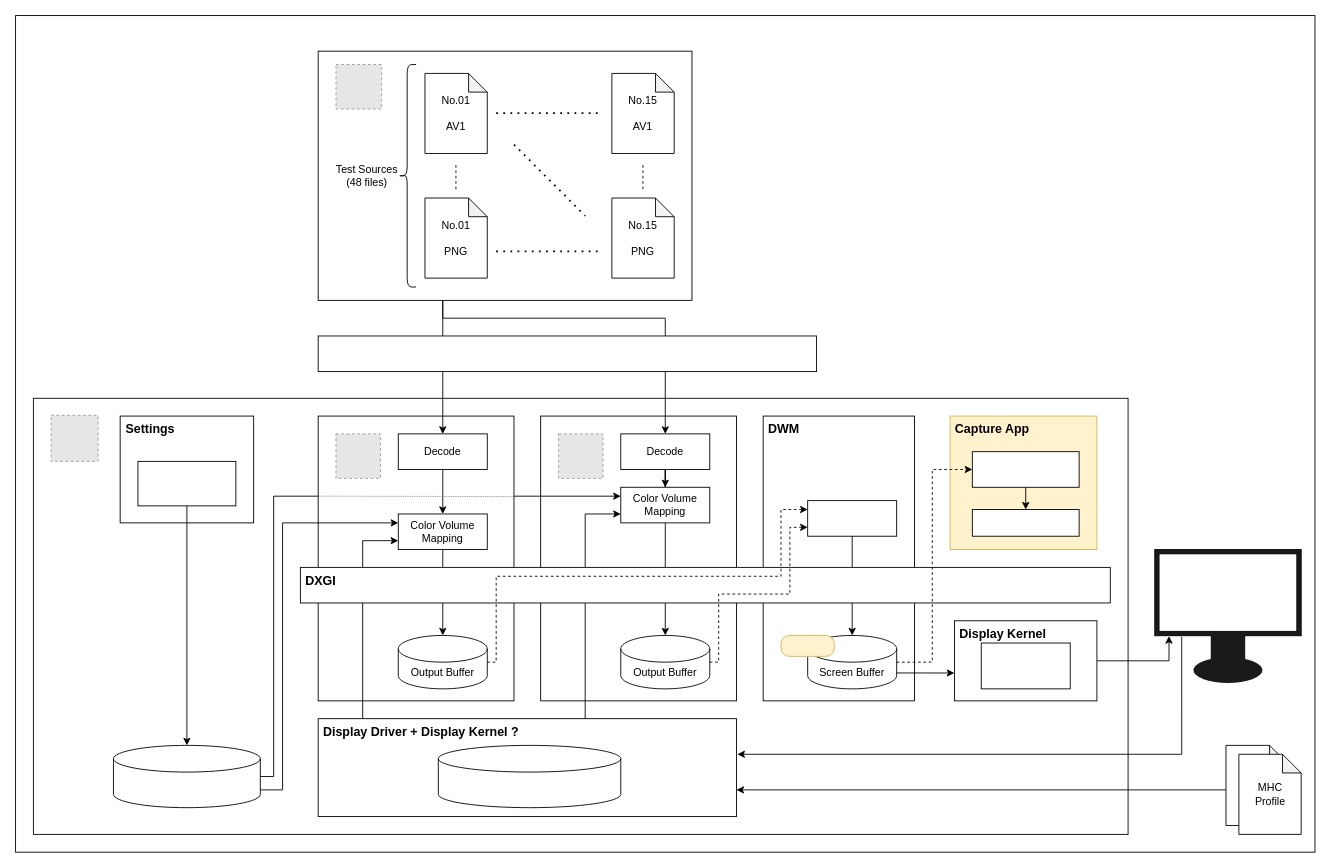
Image size: 1331x868. Some labels were removed from this diagram. Grey dashed boxes stand in for pictures. Each missing label, with the centre of its shape:
"Composition" goes at (852,518).
"Display's Color Volume Capabilities" goes at (529,776).
"Save as JPEG XR" goes at (1025,522).
"Screenshot Capture" goes at (1025,469).
"scRGB" goes at (807,645).
"scRGB to Rec.2100-PQ" goes at (1025,665).
"SDR Reference White" goes at (186,776).
"Set SDR content brightness" goes at (186,483).
"The Internet" goes at (567,353).
